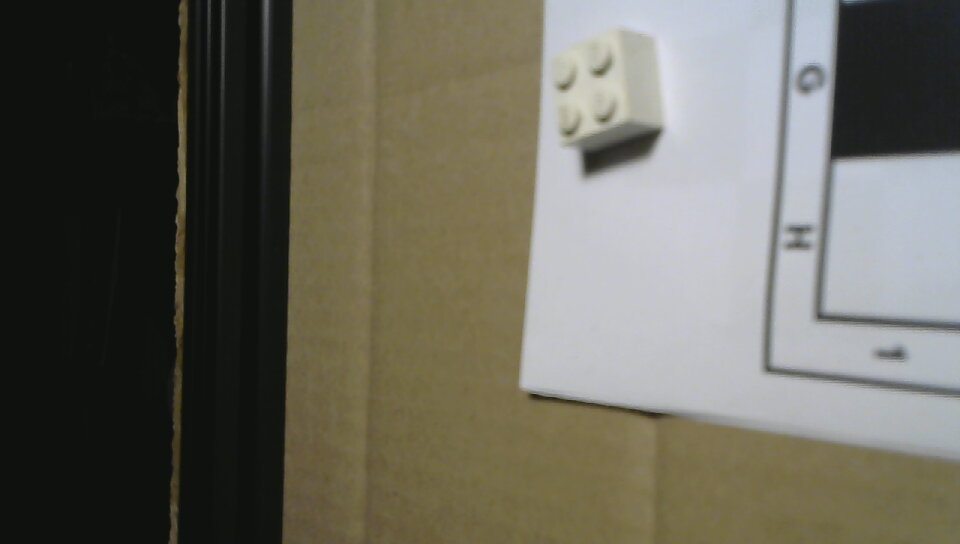wp: (541, 22, 682, 175)
